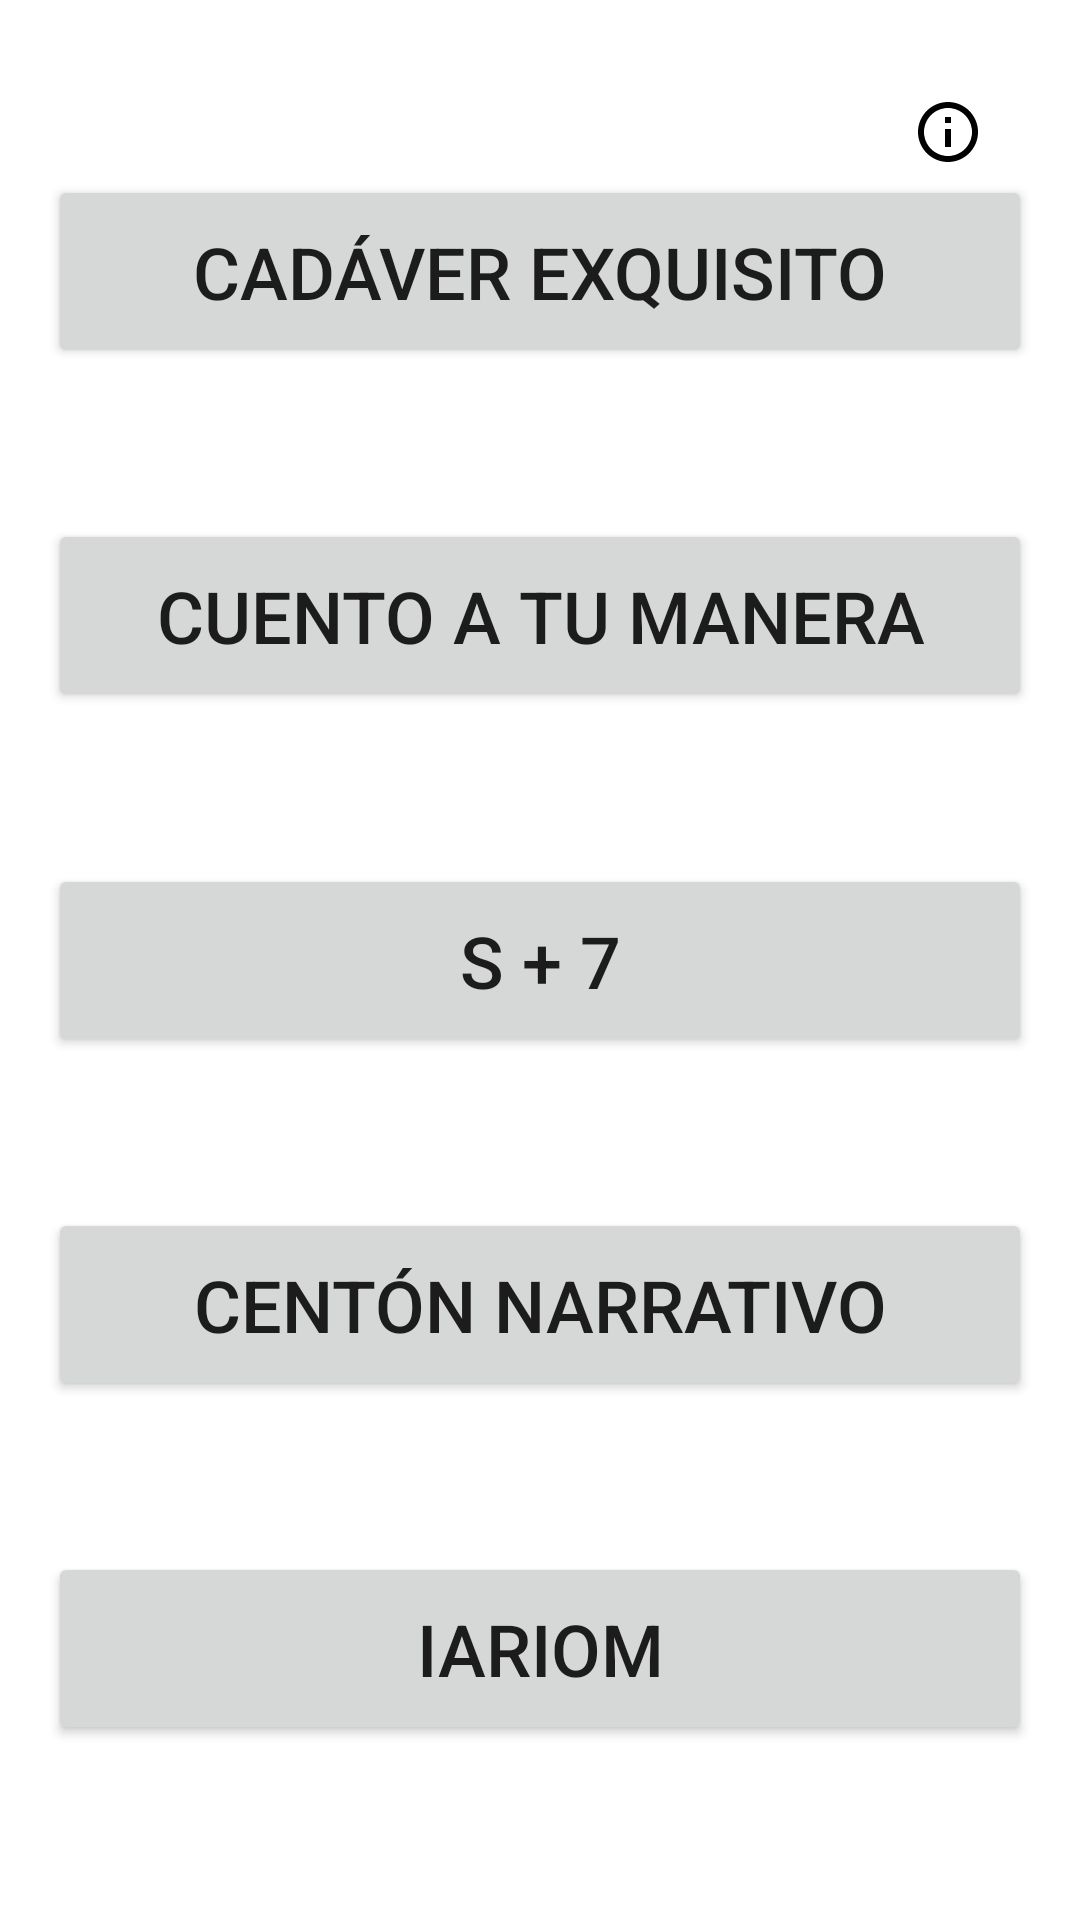

Screen size 1080x1920. Icon name, then its center in pixels as (x,y):
info: (948,132)
